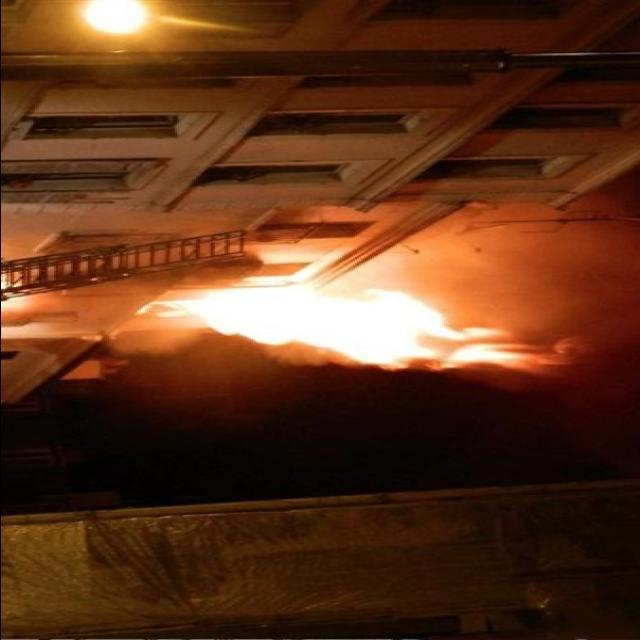Fire: (134, 276, 572, 384)
